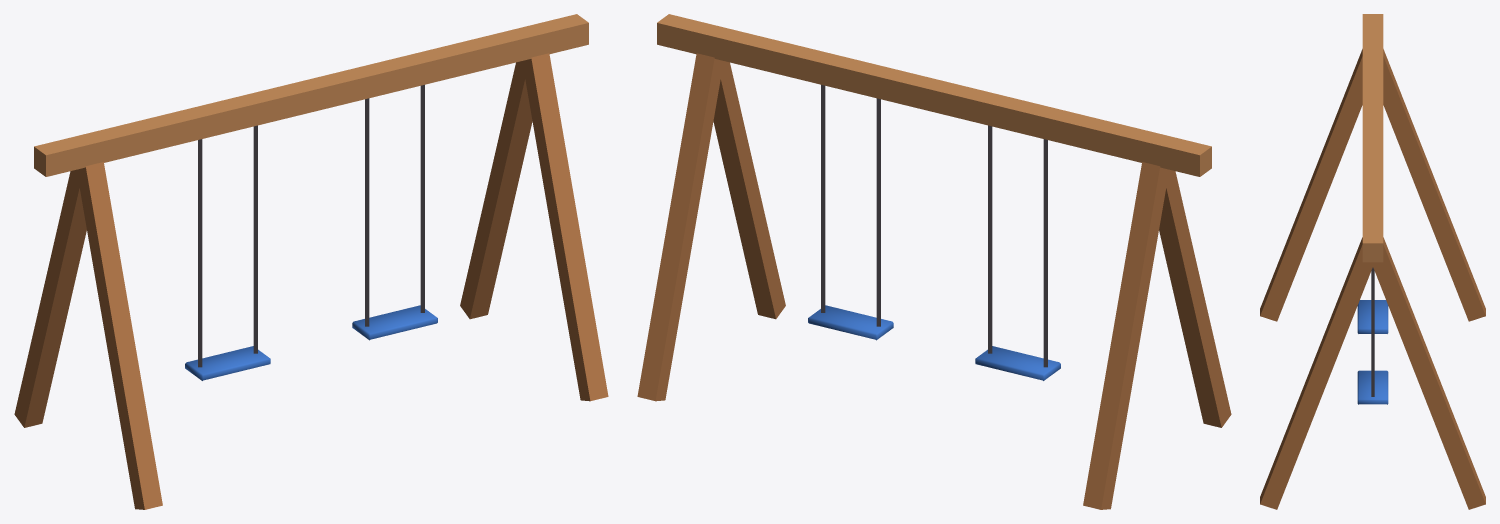
The model's file is playground_swings.glb.
The picture shows the model from 3 angles, left to right: view 1: azimuth 30°, elevation 25°; view 2: azimuth 150°, elevation 25°; view 3: azimuth 270°, elevation 25°; orthographic projection. The views are drawn at different scales.
Parts seen in each view (by area): view 1: playground_swings; view 2: playground_swings; view 3: playground_swings.
Boxes of the visible parts, <box> form: playground_swings: <box>14,14,608,509</box>; playground_swings: <box>637,14,1231,509</box>; playground_swings: <box>1260,14,1485,509</box>.
Bounding box in the file's own units: 3.9 × 2.25 × 1.62.
Materials: 1 (1 with a texture image).
